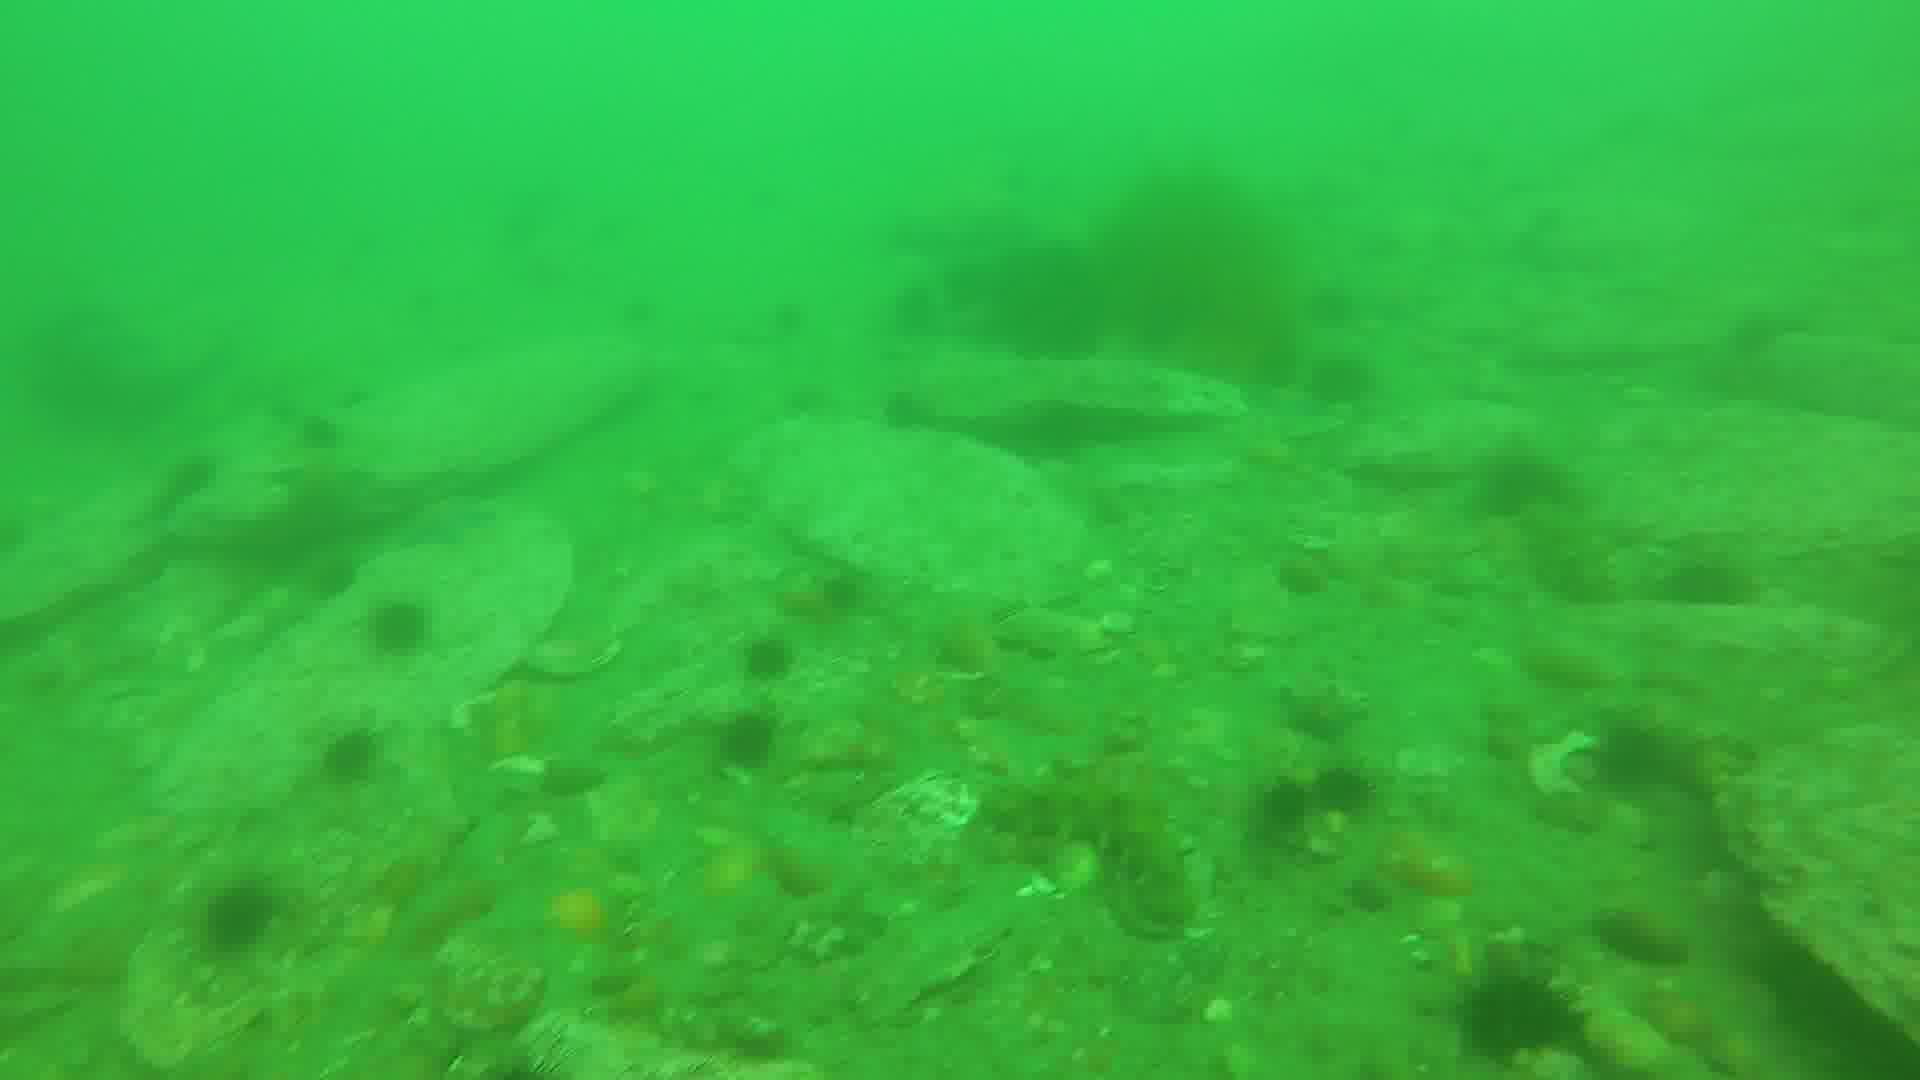echinus: (1461, 975, 1582, 1065), (1677, 551, 1753, 617), (210, 882, 280, 947), (725, 708, 779, 782), (1305, 348, 1367, 407), (1311, 764, 1373, 822), (381, 601, 442, 655), (331, 723, 385, 781), (311, 550, 357, 604), (299, 407, 344, 462), (757, 634, 796, 686)
holothurian: (996, 766, 1192, 928)
starfish: (400, 493, 498, 549)
